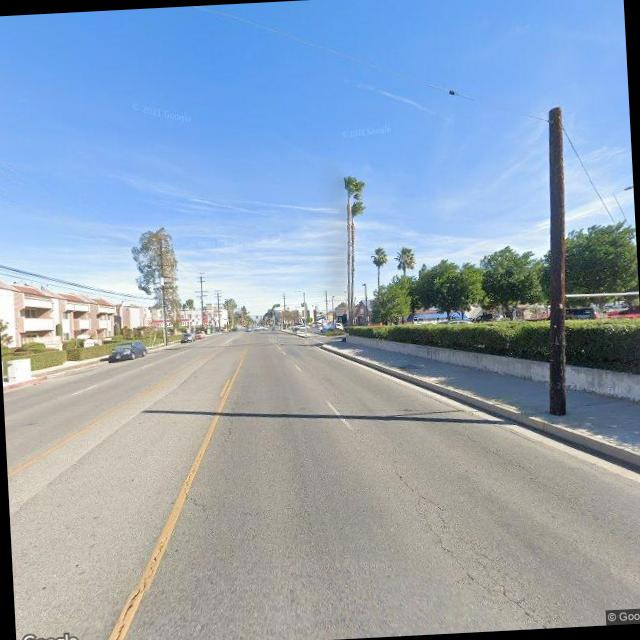crack: (387, 458, 556, 636), (101, 534, 177, 640), (182, 489, 210, 522)
